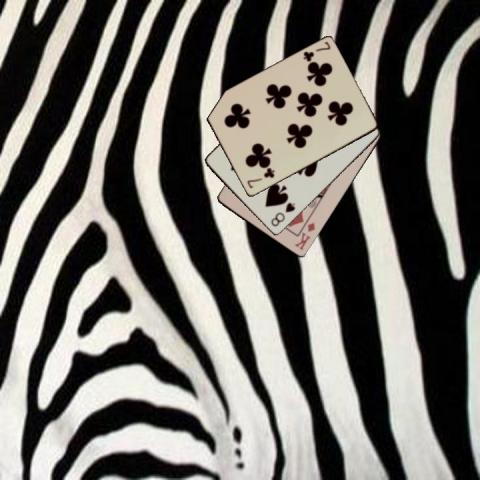7c: (244, 166, 276, 190), (300, 39, 332, 63)
8s: (268, 199, 297, 228)
Kd: (292, 219, 317, 252)
